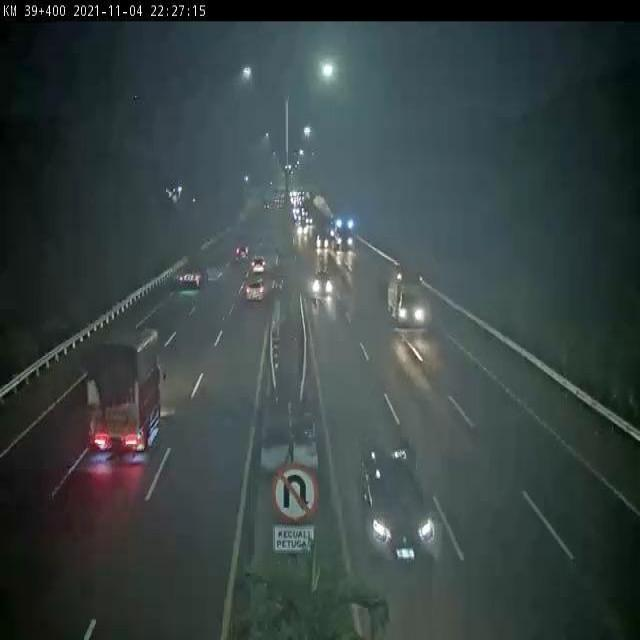car: (359, 433, 435, 567), (245, 278, 268, 302), (310, 271, 331, 296), (250, 253, 266, 276), (233, 244, 249, 261)
truck-m-: (89, 327, 162, 452), (387, 263, 429, 325), (171, 244, 207, 289)
